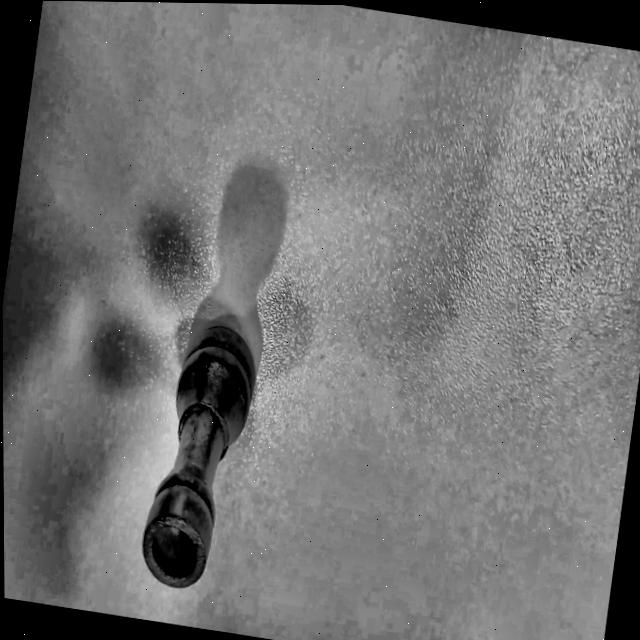black-rook: (116, 293, 278, 635)
